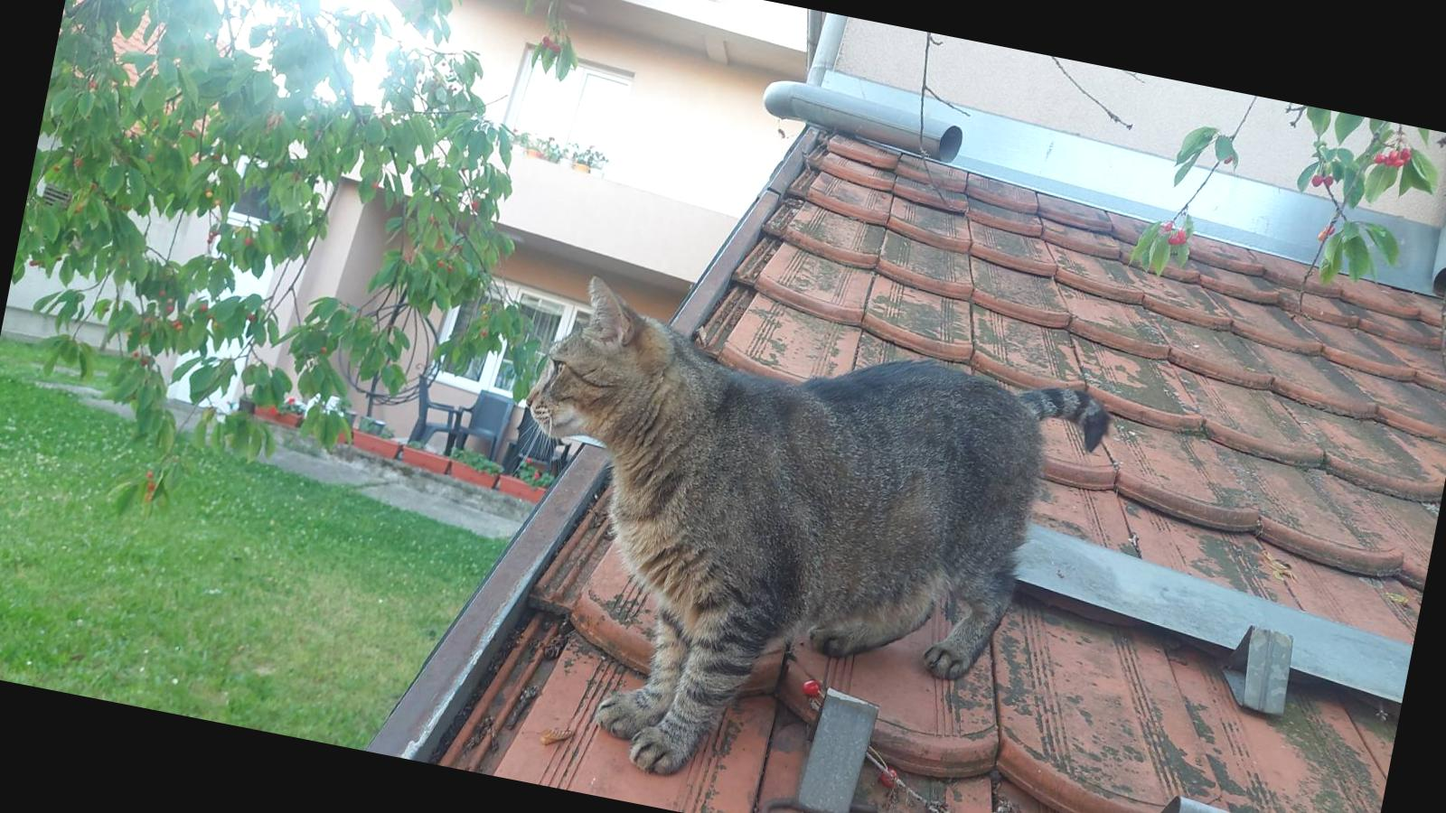macka: (465, 266, 1118, 813)
